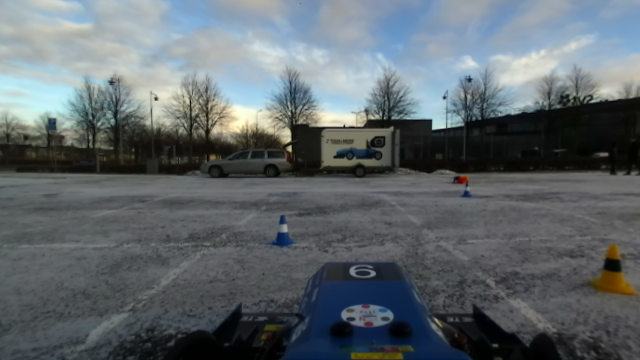blue: (271, 214, 296, 247), (459, 179, 474, 198)
yellow: (584, 242, 636, 302)
